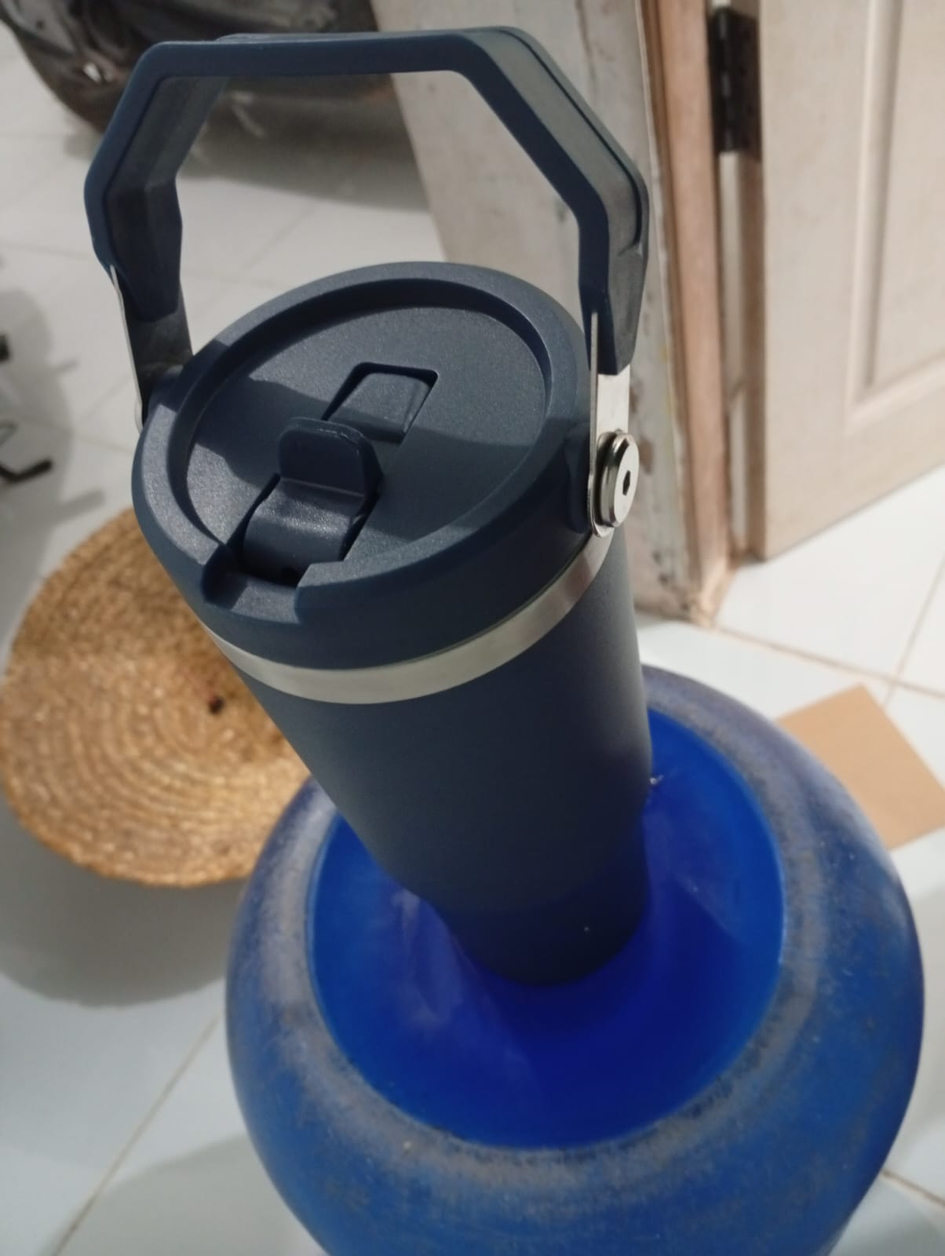Tupperware: (75, 18, 717, 990)
